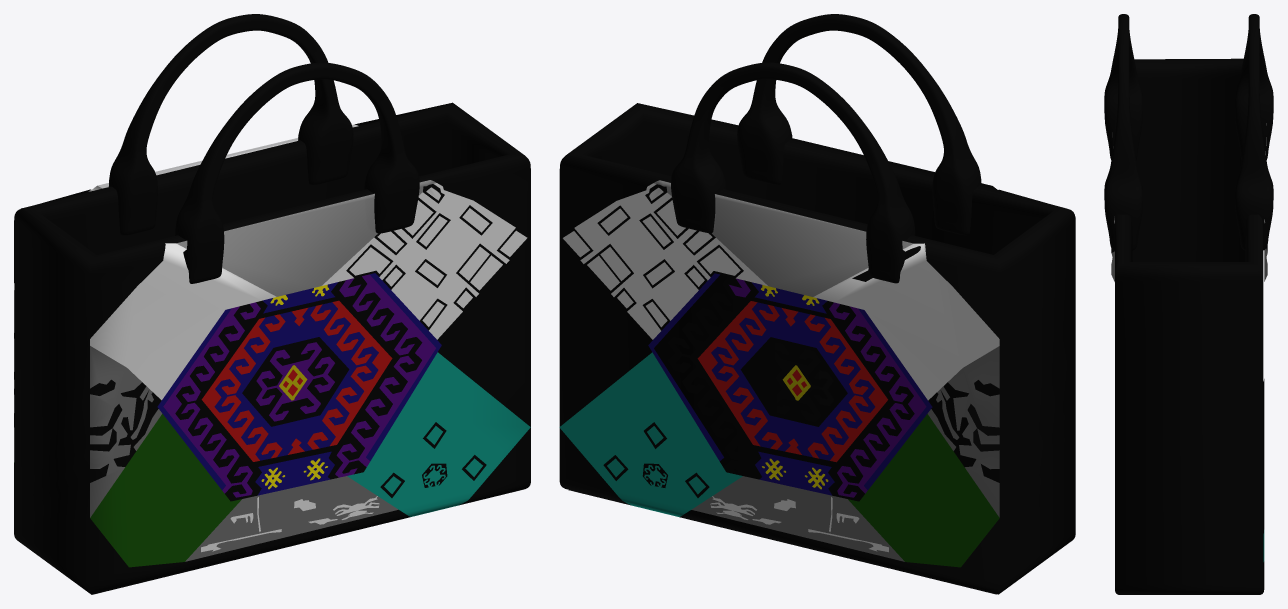
3 views of the same model, side by side, from view 1: azimuth 30°, elevation 25°; view 2: azimuth 150°, elevation 25°; view 3: azimuth 270°, elevation 25° (orthographic).
Parts seen in each view (by area): view 1: 立方体, 平面, 平面.001; view 2: 立方体, 平面.001, 平面; view 3: 立方体, 平面.001, 平面.
Part boxes in pixels (x1,y1,x2,y2): 立方体: [14, 102, 530, 594]; 平面: [175, 62, 419, 283]; 平面.001: [108, 14, 353, 235]; 立方体: [559, 103, 1075, 594]; 平面.001: [671, 62, 915, 283]; 平面: [737, 14, 981, 235]; 立方体: [1111, 58, 1267, 594]; 平面.001: [1235, 14, 1273, 250]; 平面: [1104, 14, 1142, 250].
Bounding box in the file's own units: 4.95 × 5.11 × 1.67.
